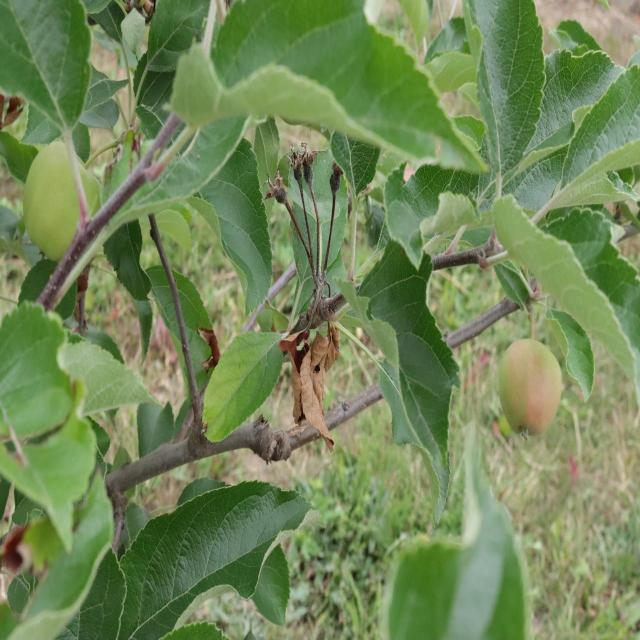-FireBlight-: (283, 301, 338, 445)
